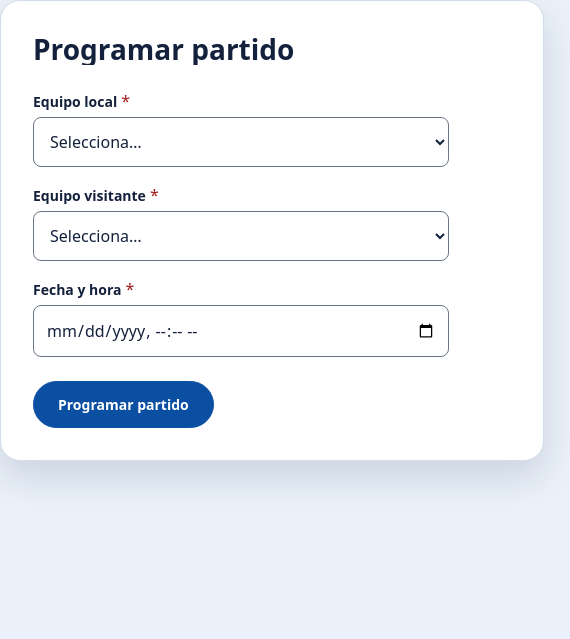
Test: CreateMatchForm › muestra el error.message del envelope al recibir 409
Step 1. Select "Ingeniería FC" in the dropdown labelled "Equipo local" → [241, 142], box x1=33 y1=117 x2=449 y2=167
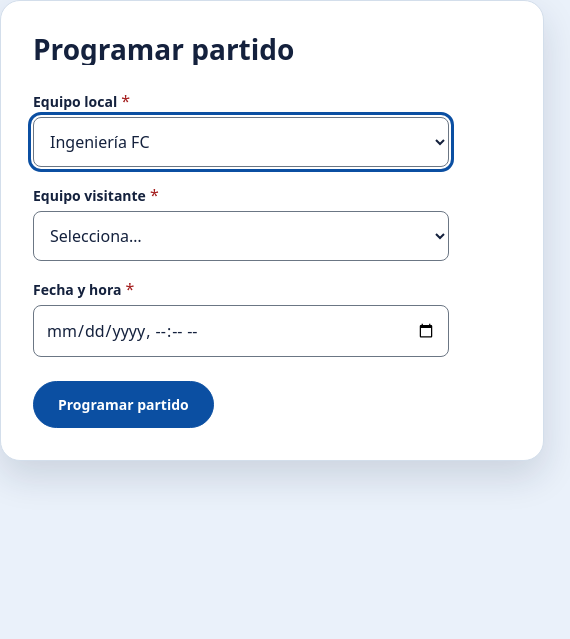
Step 2. Select "Ingeniería FC" in the dropdown labelled "Equipo visitante" → [241, 236], box x1=33 y1=211 x2=449 y2=261
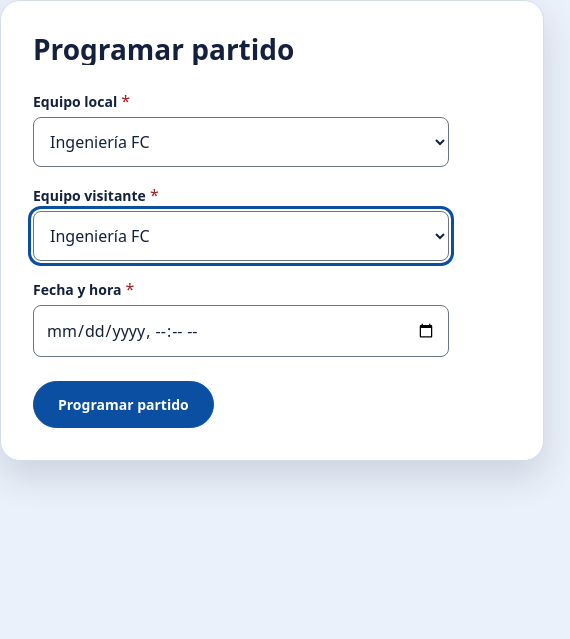
Step 3. Type "2026-09-01T18:00" into the field labelled "Fecha y hora" → [241, 331], box x1=33 y1=305 x2=449 y2=357
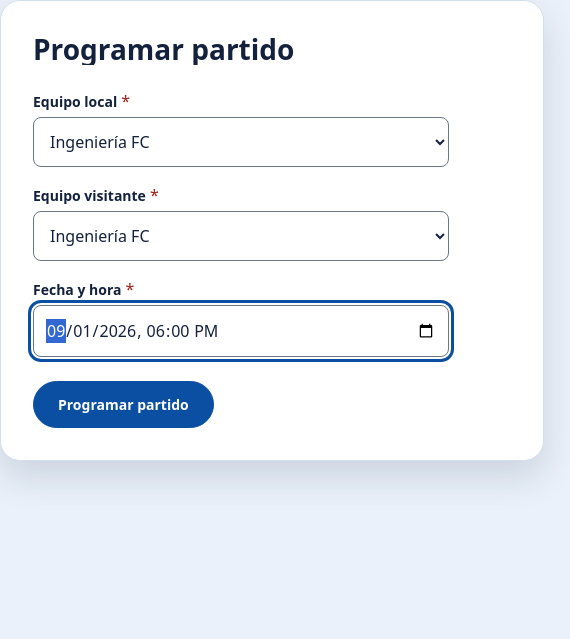
Step 4. Click the button "Programar partido" → [123, 405], box x1=33 y1=381 x2=214 y2=428
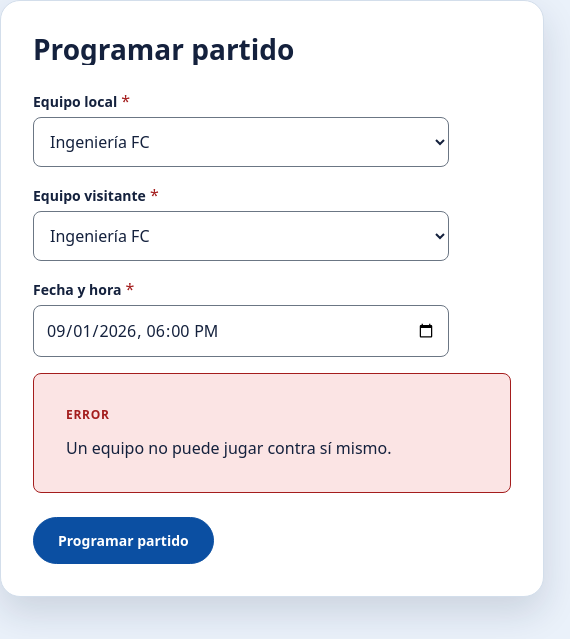
Expected: the message shows "Un equipo no puede jugar contra sí mismo.", x1=66 y1=437 x2=392 y2=459
